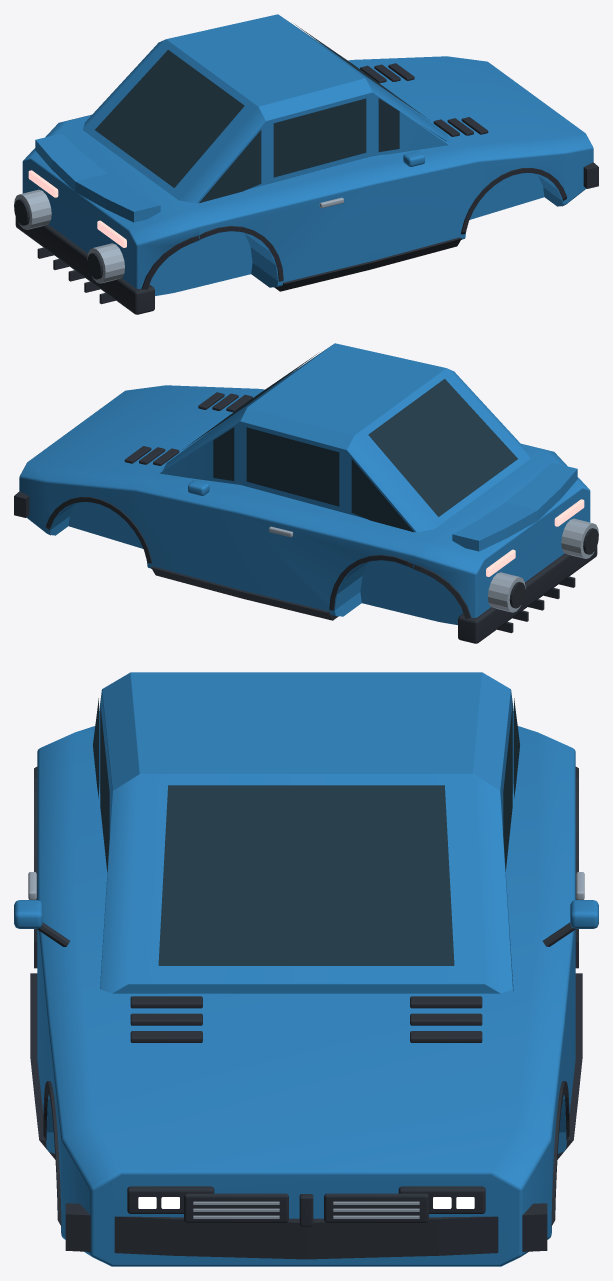
File: corsair.glb
3 views of the same model, one above another, from view 1: azimuth 30°, elevation 25°; view 2: azimuth 150°, elevation 25°; view 3: azimuth 270°, elevation 25° (orthographic). The views are drawn at different scales.
Parts seen in each view (by area): view 1: body-paint, body-details; view 2: body-paint, body-details; view 3: body-paint, body-details.
Part boxes in pixels (x1=…): body-paint: x1=22, y1=14, x2=593, y2=295; body-details: x1=14, y1=24, x2=598, y2=314; body-paint: x1=19, y1=343, x2=590, y2=624; body-details: x1=14, y1=353, x2=598, y2=643; body-paint: x1=14, y1=672, x2=598, y2=1266; body-details: x1=28, y1=698, x2=584, y2=1259.
Size of the model in its own units: 1.38 by 0.469 by 0.7535.
